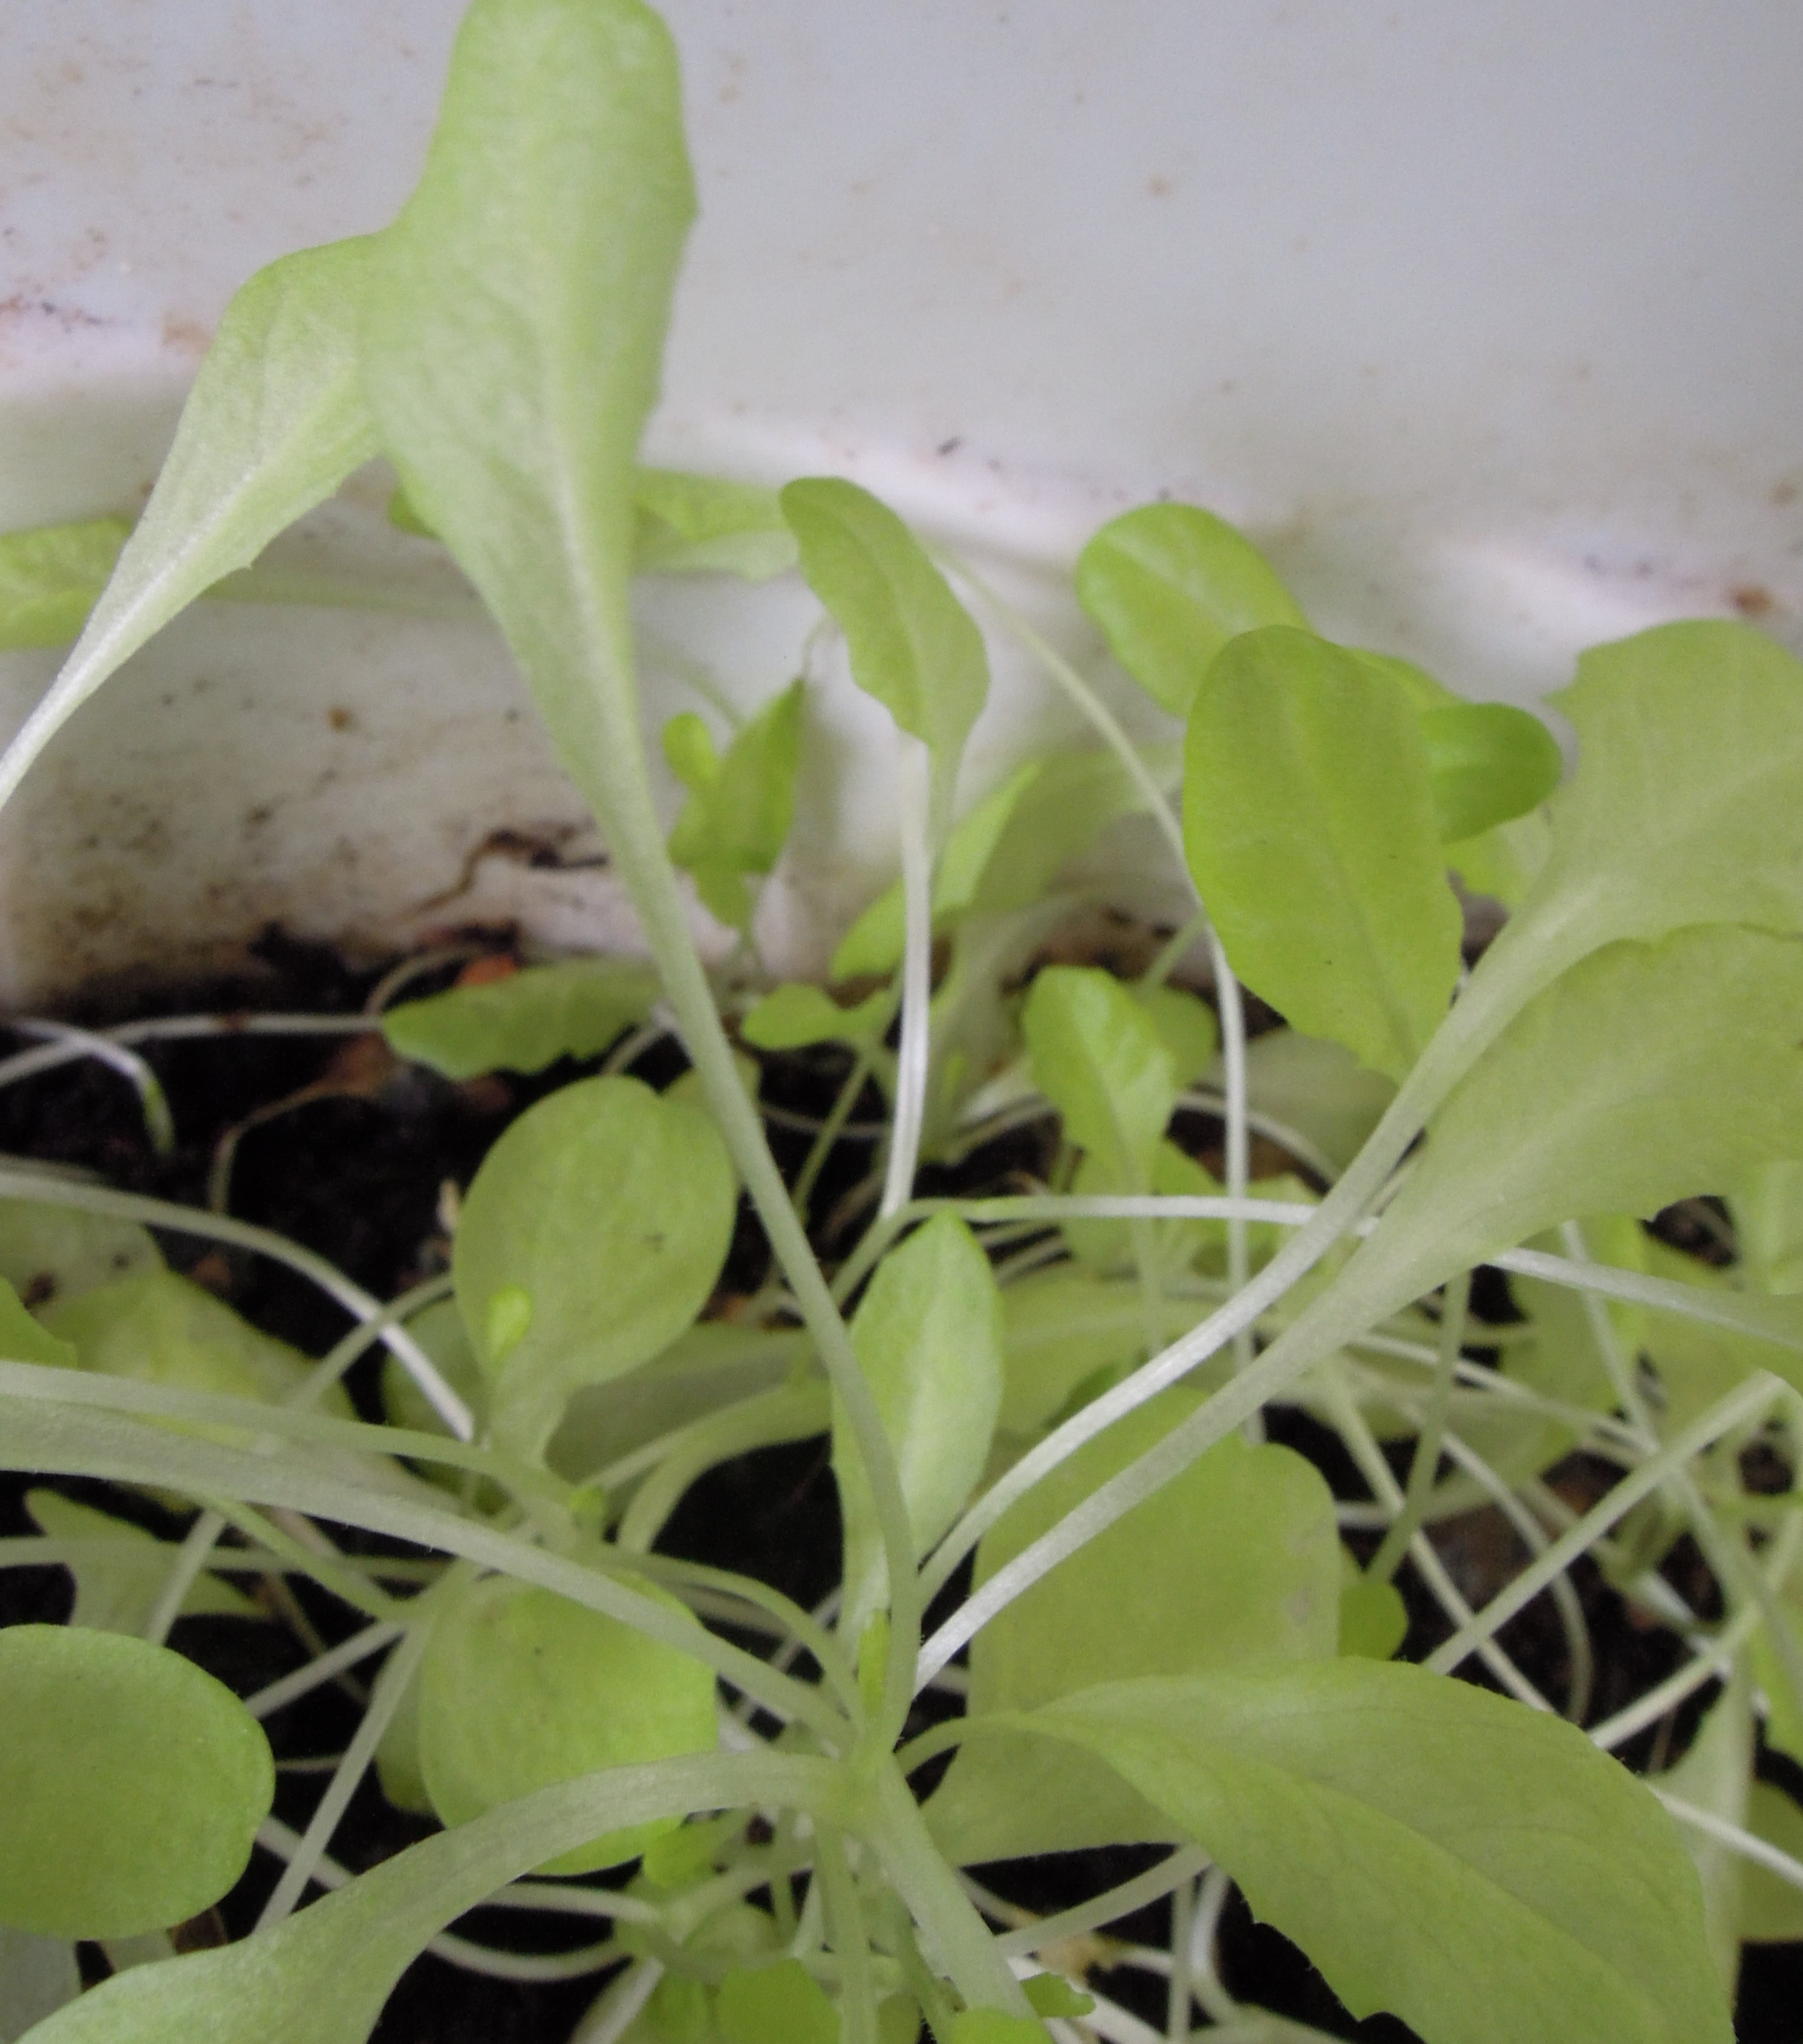weeek6: (278, 0, 1803, 2044)
